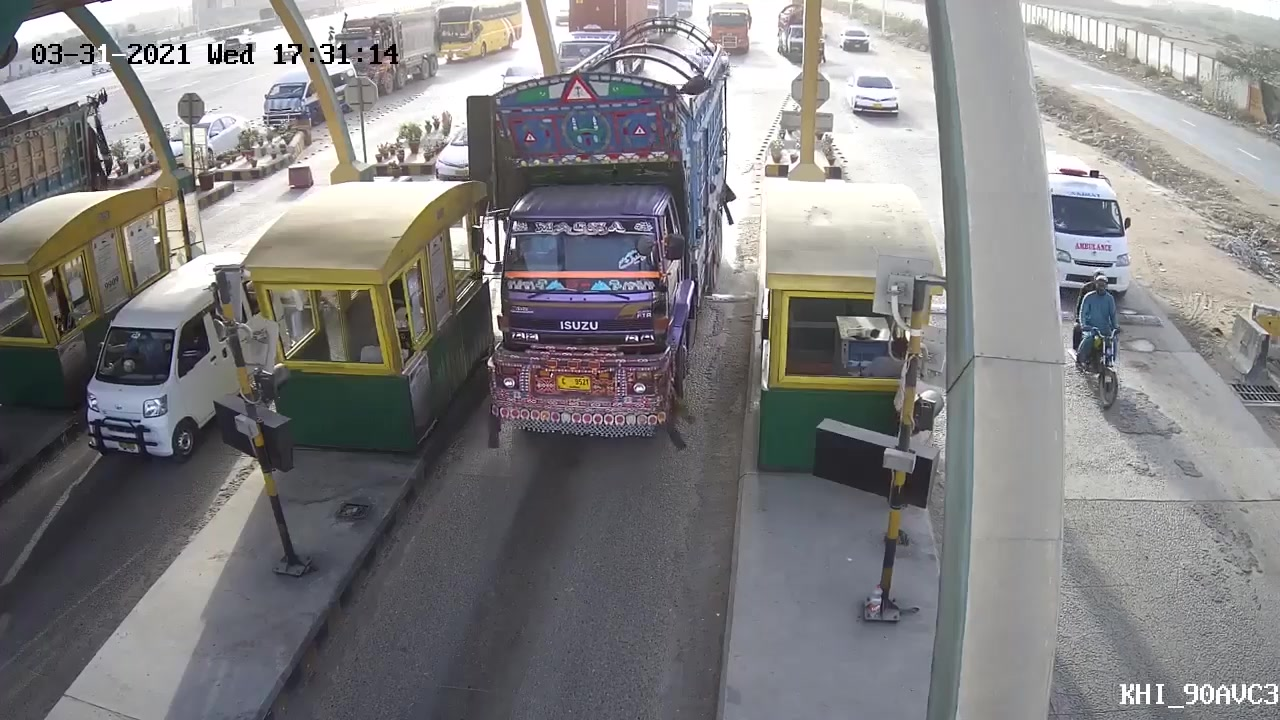F5: (479, 23, 737, 477)
